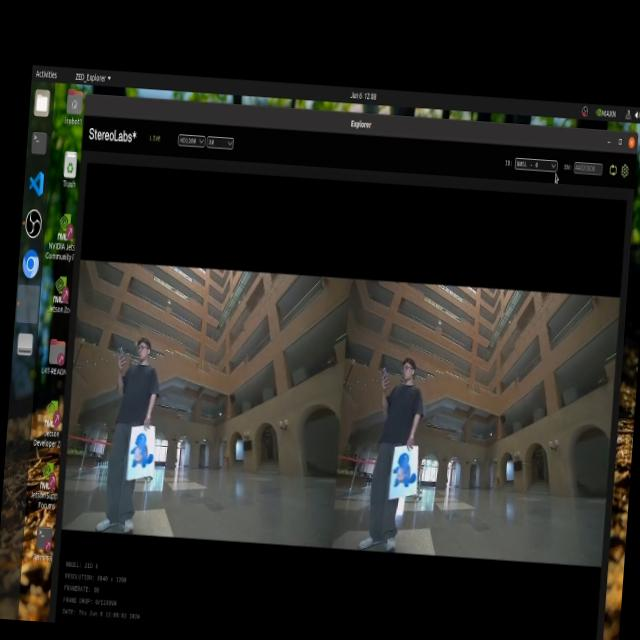blue: (128, 426, 154, 476), (390, 450, 413, 490)
